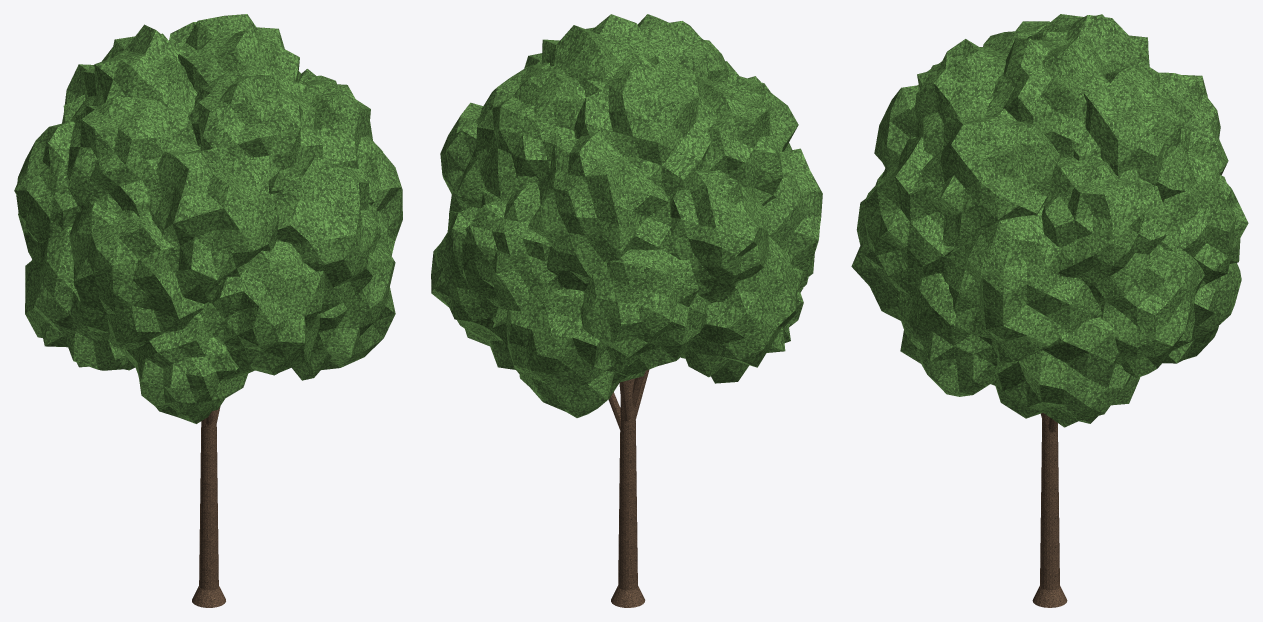
3 views of the same model, side by side, from view 1: azimuth 30°, elevation 25°; view 2: azimuth 150°, elevation 25°; view 3: azimuth 270°, elevation 25° (orthographic).
Parts seen in each view (by area): view 1: canopyDiameter=5;clearTrunkHeight=2.2;foliageMaterial=foliag (×2); view 2: canopyDiameter=5;clearTrunkHeight=2.2;foliageMaterial=foliag (×2); view 3: canopyDiameter=5;clearTrunkHeight=2.2;foliageMaterial=foliag (×2).
Part boxes in pixels (x1,y1,x2,y2): canopyDiameter=5;clearTrunkHeight=2.2;foliageMaterial=foliag (×2): (14, 14, 402, 607); canopyDiameter=5;clearTrunkHeight=2.2;foliageMaterial=foliag (×2): (431, 14, 822, 607); canopyDiameter=5;clearTrunkHeight=2.2;foliageMaterial=foliag (×2): (851, 14, 1248, 607).
Size of the model in its own units: 5 by 5 by 8.
2 materials, 2 textured.
